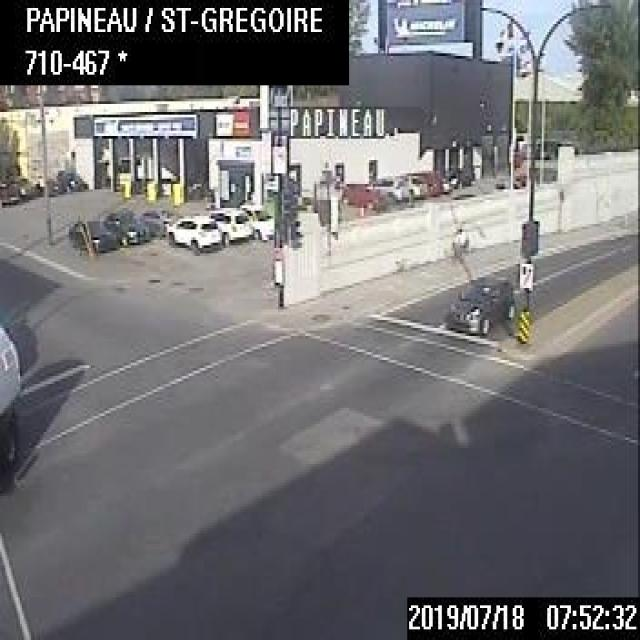vehicle: (442, 269, 516, 336), (0, 320, 20, 475), (160, 210, 220, 254), (204, 205, 252, 248), (100, 207, 150, 247), (68, 212, 119, 250), (338, 178, 382, 214), (237, 201, 272, 244), (364, 174, 405, 204), (389, 169, 426, 202)
